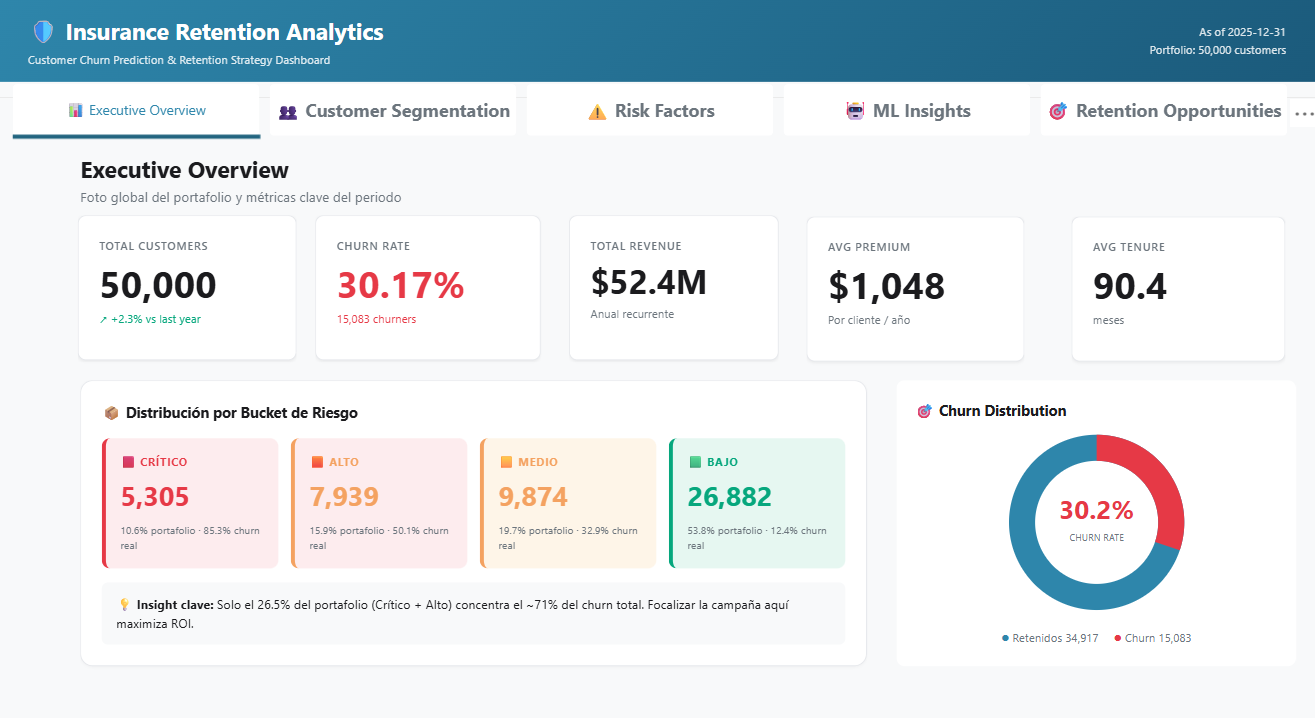

Layout of this report page (visuals, bound fields, positions):
{"tool":"powerbi","page":{"name":"📊 Executive Overview","canvas":[1280,720],"ordinal":0},"visuals":[{"type":"htmlContent443BE3AD55E043BF878BED274D3A6855","fields":{"content":["_Measures.HTML_KPI_AvgTenure"]},"box":[1035.1,219.3,216.3,156],"z":0},{"type":"htmlContent443BE3AD55E043BF878BED274D3A6855","fields":{"content":["_Measures.HTML_KPI_AvgPremium"]},"box":[779.3,219.3,220.2,156],"z":1000},{"type":"htmlContent443BE3AD55E043BF878BED274D3A6855","fields":{"content":["_Measures.HTML_KPI_TotalRevenue"]},"box":[550,218.9,212.2,156.7],"z":2000},{"type":"htmlContent443BE3AD55E043BF878BED274D3A6855","fields":{"content":["_Measures.HTML_KPI_ChurnRate"]},"box":[305.6,218.9,227.8,156.7],"z":3000},{"type":"htmlContent443BE3AD55E043BF878BED274D3A6855","fields":{"content":["_Measures.HTML_KPI_TotalCustomers"]},"box":[75.6,218.9,221.1,156.7],"z":4000},{"type":"htmlContent443BE3AD55E043BF878BED274D3A6855","fields":{"content":["_Measures.HTML_PageHeader"]},"box":[0,10,1280,100],"z":5000},{"type":"htmlContent443BE3AD55E043BF878BED274D3A6855","fields":{"content":["_Measures.HTML_PageTitle"]},"box":[78.9,152.2,433.3,81.1],"z":6000},{"type":"pageNavigator","box":[17.8,97,1233.5,50.4],"z":7000},{"type":"shape","box":[18,66,239,162],"z":8000},{"type":"htmlContent443BE3AD55E043BF878BED274D3A6855","fields":{"content":["_Measures.HTML_ChurnDonut"]},"box":[866.7,377.8,395.6,286.7],"z":9000},{"type":"htmlContent443BE3AD55E043BF878BED274D3A6855","fields":{"content":["_Measures.HTML_BucketSection_Full"]},"box":[78.9,377.8,768.9,303.3],"z":10000}]}

Visuals, with their boxes on the page's 1280x720 design canvas (x1, y1, x2, y2). These are canvas units, not pixel positions in the 1315x718 screenshot, which may show the page scaled, cropped or inside an application window:
htmlContent443BE3AD55E043BF878BED274D3A6855 - _Measures.HTML_KPI_AvgTenure: select_region(1035, 219, 1251, 375)
htmlContent443BE3AD55E043BF878BED274D3A6855 - _Measures.HTML_KPI_AvgPremium: select_region(779, 219, 1000, 375)
htmlContent443BE3AD55E043BF878BED274D3A6855 - _Measures.HTML_KPI_TotalRevenue: select_region(550, 219, 762, 376)
htmlContent443BE3AD55E043BF878BED274D3A6855 - _Measures.HTML_KPI_ChurnRate: select_region(306, 219, 533, 376)
htmlContent443BE3AD55E043BF878BED274D3A6855 - _Measures.HTML_KPI_TotalCustomers: select_region(76, 219, 297, 376)
htmlContent443BE3AD55E043BF878BED274D3A6855 - _Measures.HTML_PageHeader: select_region(0, 10, 1280, 110)
htmlContent443BE3AD55E043BF878BED274D3A6855 - _Measures.HTML_PageTitle: select_region(79, 152, 512, 233)
pageNavigator: select_region(18, 97, 1251, 147)
shape: select_region(18, 66, 257, 228)
htmlContent443BE3AD55E043BF878BED274D3A6855 - _Measures.HTML_ChurnDonut: select_region(867, 378, 1262, 664)
htmlContent443BE3AD55E043BF878BED274D3A6855 - _Measures.HTML_BucketSection_Full: select_region(79, 378, 848, 681)
